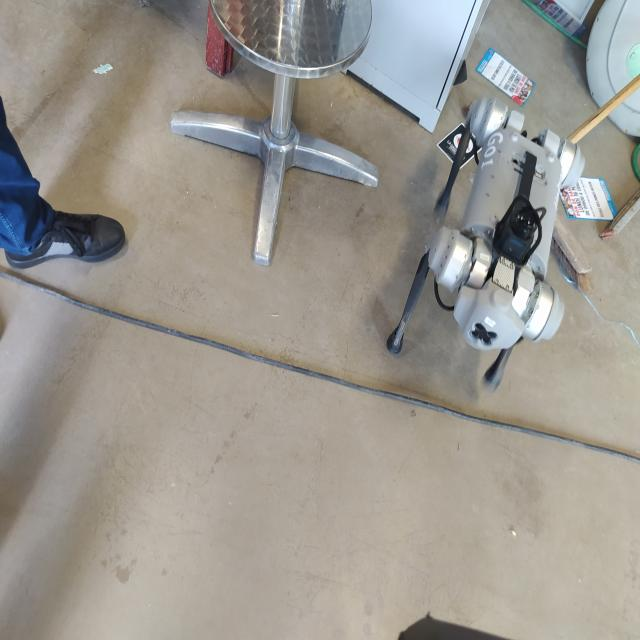unitree-go1-robot: (375, 84, 581, 414)
